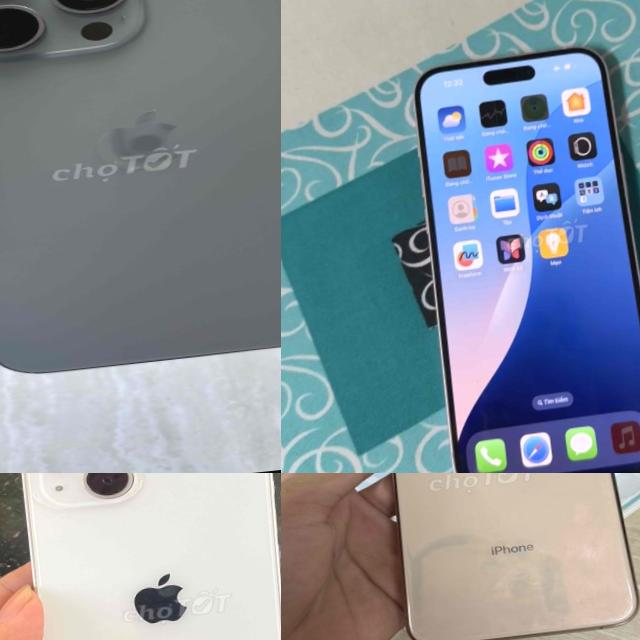gen_12_13: (11, 473, 281, 640)
gen_15: (0, 0, 281, 389), (396, 29, 640, 473)
gen_x_xs: (376, 473, 640, 640)
